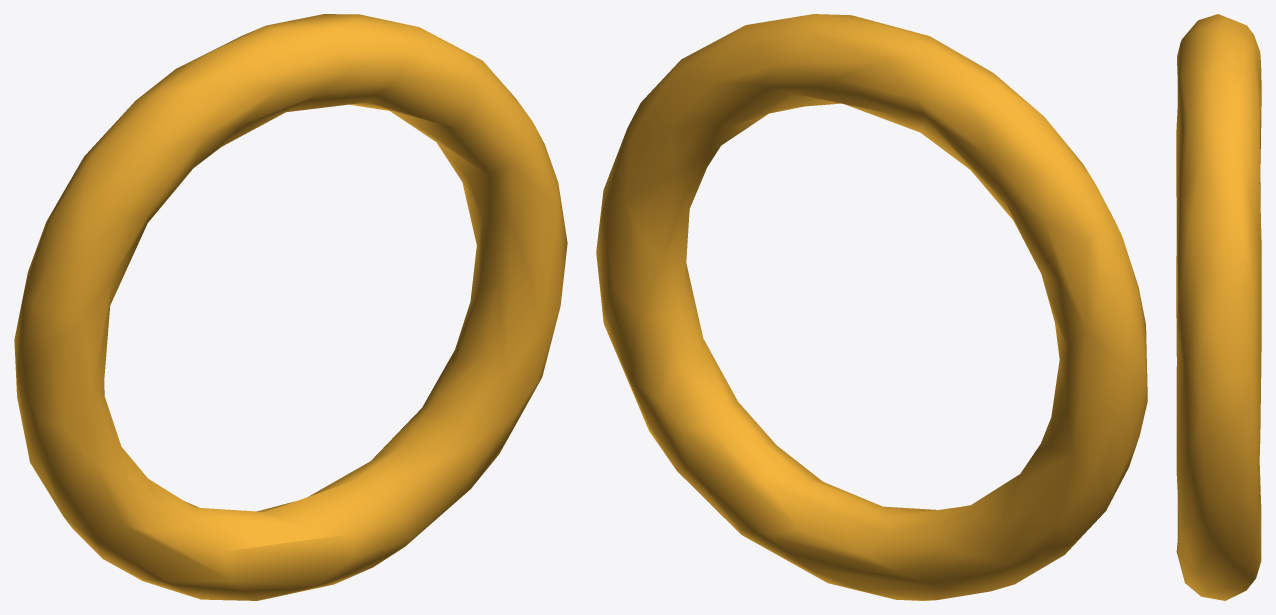
Rendered from NoteModel.fbx.
3 renders of one model, left to right at view 1: azimuth 30°, elevation 25°; view 2: azimuth 150°, elevation 25°; view 3: azimuth 270°, elevation 25°, orthographic. The views are drawn at different scales.
Visible parts, largest first — view 1: Note; view 2: Note; view 3: Note.
Boxes of the visible parts, x1,y1,x2,y2 form: Note: (14,14,567,600); Note: (596,14,1147,600); Note: (1176,14,1261,600).
Size of the model in its own units: 35.58 by 35.61 by 5.21.
